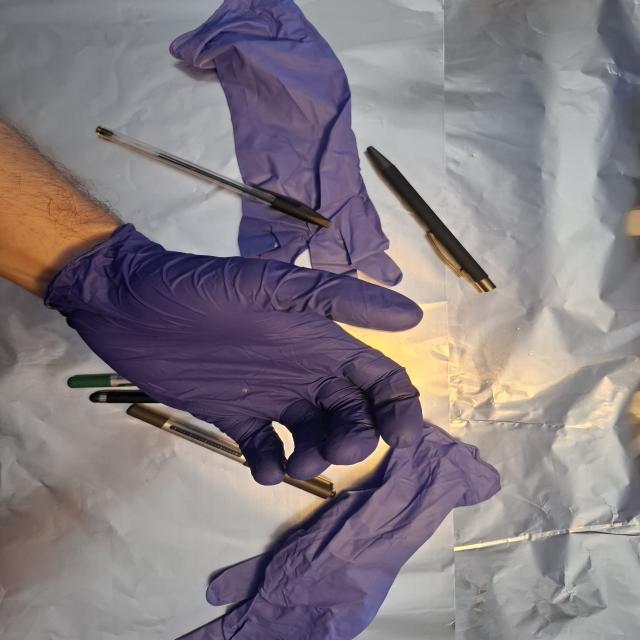glove_on: (54, 245, 429, 487)
